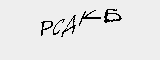Б: (103, 6, 121, 23)
Д: (62, 13, 75, 37)
К: (78, 5, 100, 27)
Р: (38, 17, 54, 38)
С: (51, 14, 65, 37)
